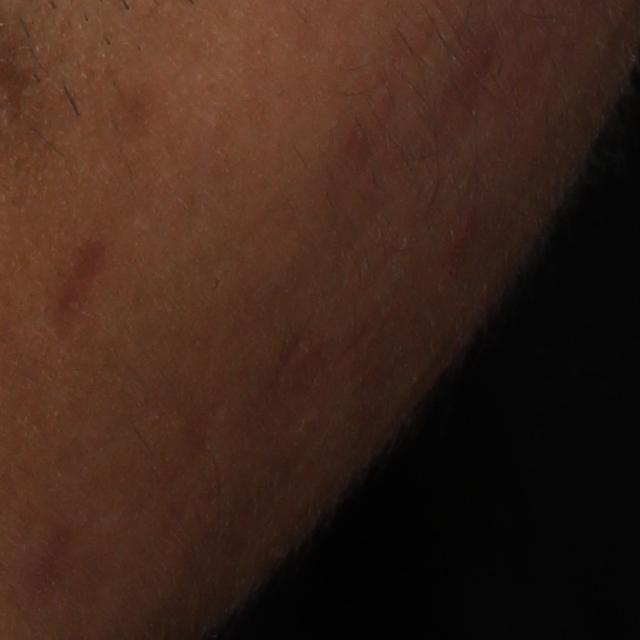atrophic_scar: (54, 234, 114, 335)
papule: (444, 214, 479, 259)
